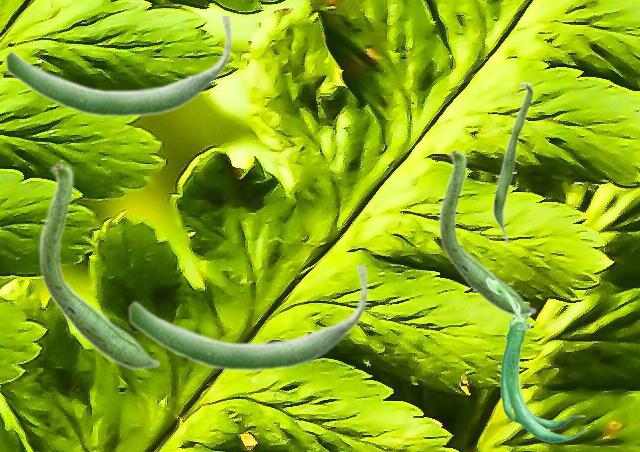french_bean: (127, 265, 368, 372), (38, 160, 160, 370), (4, 16, 232, 118), (485, 277, 586, 442), (438, 147, 536, 316), (492, 81, 533, 246)
